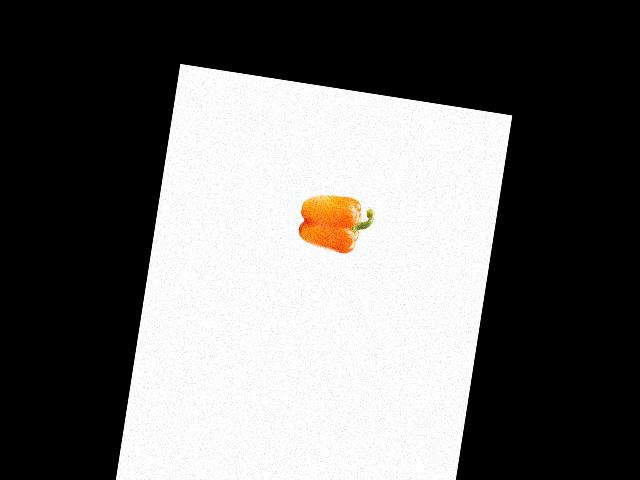bell_pepper: (294, 184, 377, 262)
